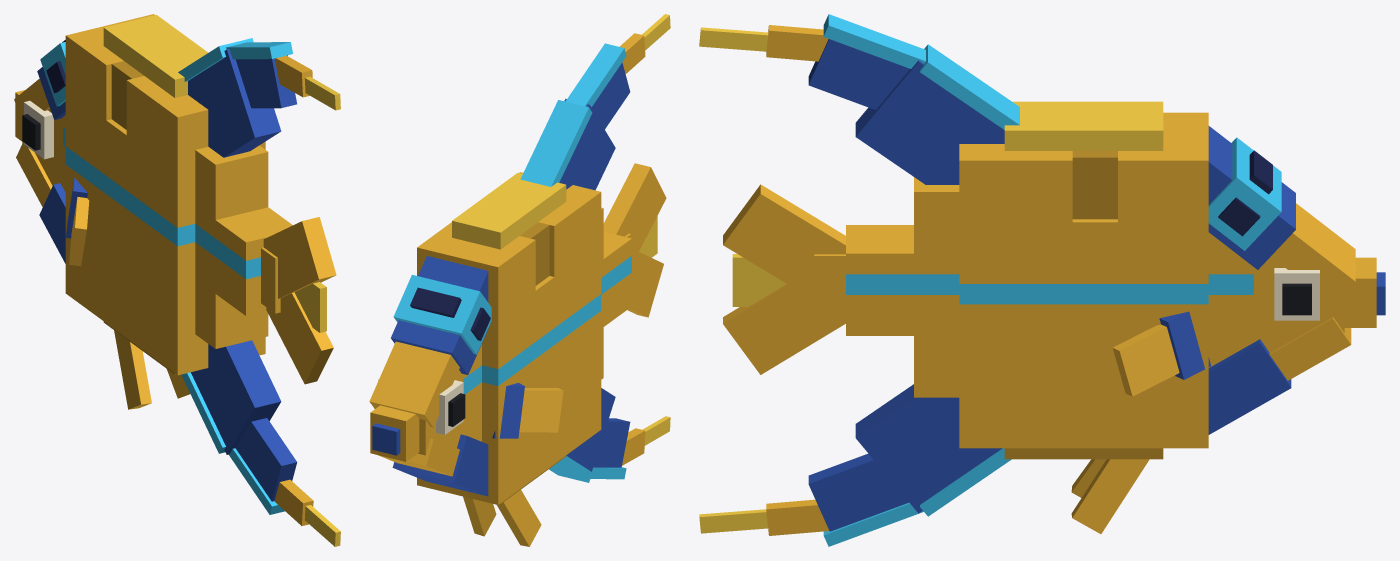
Rendered from Angelfish.obj.
3 renders of one model, left to right at view 1: azimuth 30°, elevation 25°; view 2: azimuth 150°, elevation 25°; view 3: azimuth 270°, elevation 25°, orthographic. The views are drawn at different scales.
Parts seen in each view (by area): view 1: Rear, Body, Tail, AnalTip, DorsalTip, FinL; view 2: Body, Rear, Tail, FinL, DorsalTip, AnalTip; view 3: Body, Rear, Tail, FinR, DorsalTip, AnalTip.
Boxes of the visible parts, <box> form: Rear: <box>157,38,297,514</box>; Body: <box>14,14,208,409</box>; Tail: <box>261,217,336,384</box>; AnalTip: <box>274,479,340,546</box>; DorsalTip: <box>274,55,340,110</box>; FinL: <box>66,177,89,266</box>; Body: <box>369,173,582,546</box>; Rear: <box>519,43,631,482</box>; Tail: <box>603,163,666,317</box>; FinL: <box>492,383,563,438</box>; DorsalTip: <box>619,14,670,73</box>; AnalTip: <box>622,416,670,465</box>; Body: <box>1004,101,1385,533</box>; Rear: <box>808,14,1019,546</box>; Tail: <box>723,184,845,374</box>; FinR: <box>1112,311,1210,396</box>; DorsalTip: <box>699,25,828,61</box>; AnalTip: <box>699,499,828,535</box>.
Size of the model in its own units: 3.4 by 10.15 by 12.11.
1 material, 1 textured.
